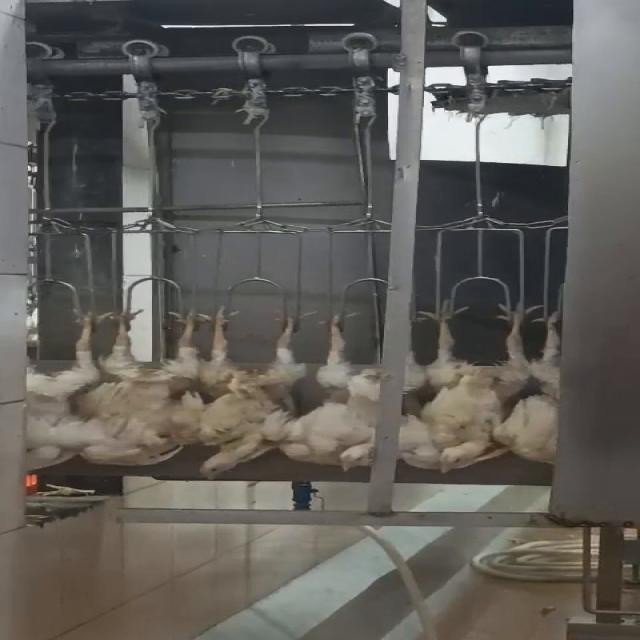chicken: (76, 302, 230, 469), (404, 296, 538, 472), (181, 304, 312, 482), (279, 316, 400, 478), (12, 307, 118, 473), (514, 301, 576, 471)
